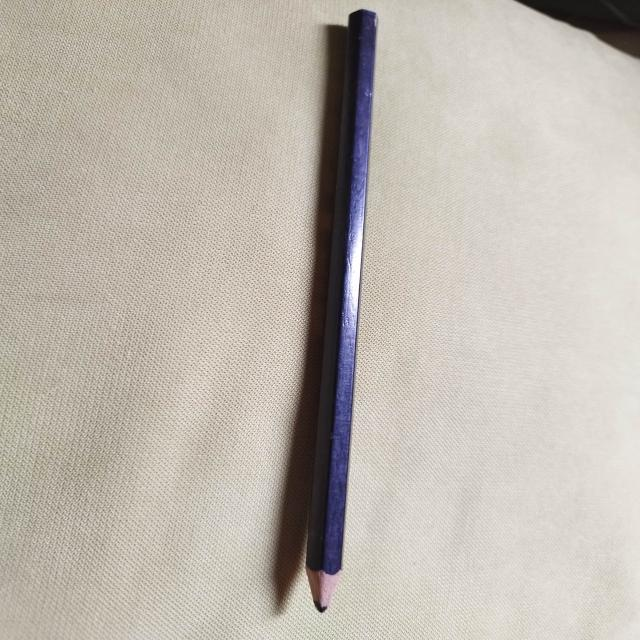pencil: (305, 9, 377, 612)
